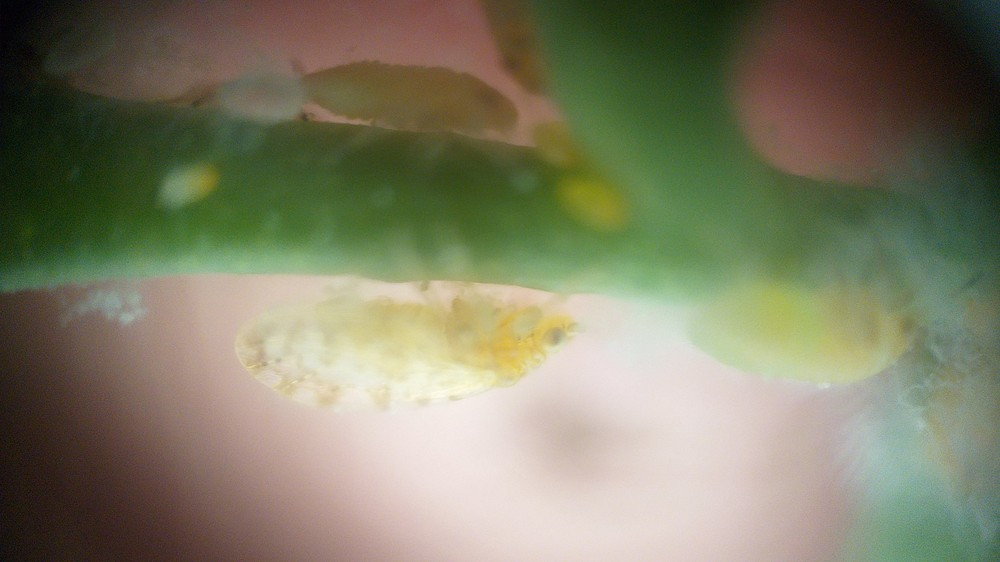Mosca Blanca: (220, 240, 621, 456)
